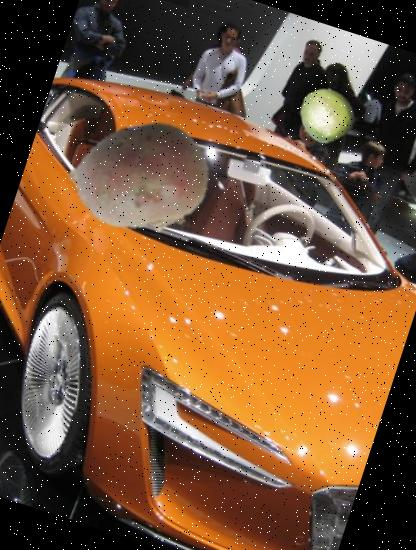Limes: (291, 80, 360, 149)
Potato: (50, 90, 228, 268)
